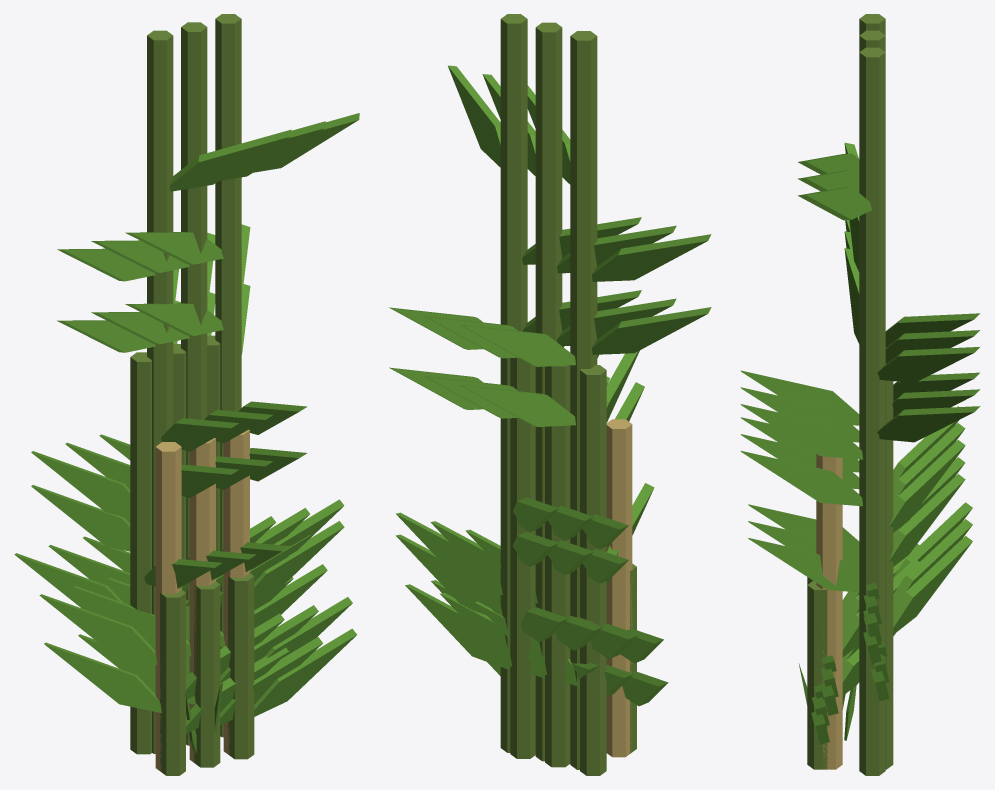
The model's file is Crop_Crop_Sugarcane.fbx.
3 renders of one model, left to right at view 1: azimuth 30°, elevation 25°; view 2: azimuth 150°, elevation 25°; view 3: azimuth 270°, elevation 25°, orthographic. The views are drawn at different scales.
Visible parts, largest first — view 1: Crop_Crop_Sugarcane__S4, Crop_Crop_Sugarcane__S3, Crop_Crop_Sugarcane__S1, Crop_Crop_Sugarcane__S5, Crop_Crop_Sugarcane__S2; view 2: Crop_Crop_Sugarcane__S4, Crop_Crop_Sugarcane__S3, Crop_Crop_Sugarcane__S2, Crop_Crop_Sugarcane__S5, Crop_Crop_Sugarcane__S1; view 3: Crop_Crop_Sugarcane__S4, Crop_Crop_Sugarcane__S3, Crop_Crop_Sugarcane__S2, Crop_Crop_Sugarcane__S5, Crop_Crop_Sugarcane__S1.
Boxes of the visible parts, box(x1,y1,x2,y2) form: Crop_Crop_Sugarcane__S4: box(31, 14, 359, 753); Crop_Crop_Sugarcane__S3: box(31, 126, 344, 753); Crop_Crop_Sugarcane__S1: box(44, 573, 356, 775); Crop_Crop_Sugarcane__S5: box(39, 429, 352, 771); Crop_Crop_Sugarcane__S2: box(14, 335, 327, 754); Crop_Crop_Sugarcane__S4: box(389, 14, 711, 769); Crop_Crop_Sugarcane__S3: box(389, 128, 711, 769); Crop_Crop_Sugarcane__S2: box(405, 357, 654, 775); Crop_Crop_Sugarcane__S5: box(431, 419, 663, 757); Crop_Crop_Sugarcane__S1: box(487, 563, 668, 753); Crop_Crop_Sugarcane__S4: box(740, 14, 979, 775); Crop_Crop_Sugarcane__S3: box(740, 160, 980, 775); Crop_Crop_Sugarcane__S2: box(748, 347, 972, 769); Crop_Crop_Sugarcane__S5: box(798, 454, 919, 769); Crop_Crop_Sugarcane__S1: box(807, 577, 895, 769).
Bounding box in the file's own units: 0.2591 × 0.6 × 0.1816.
